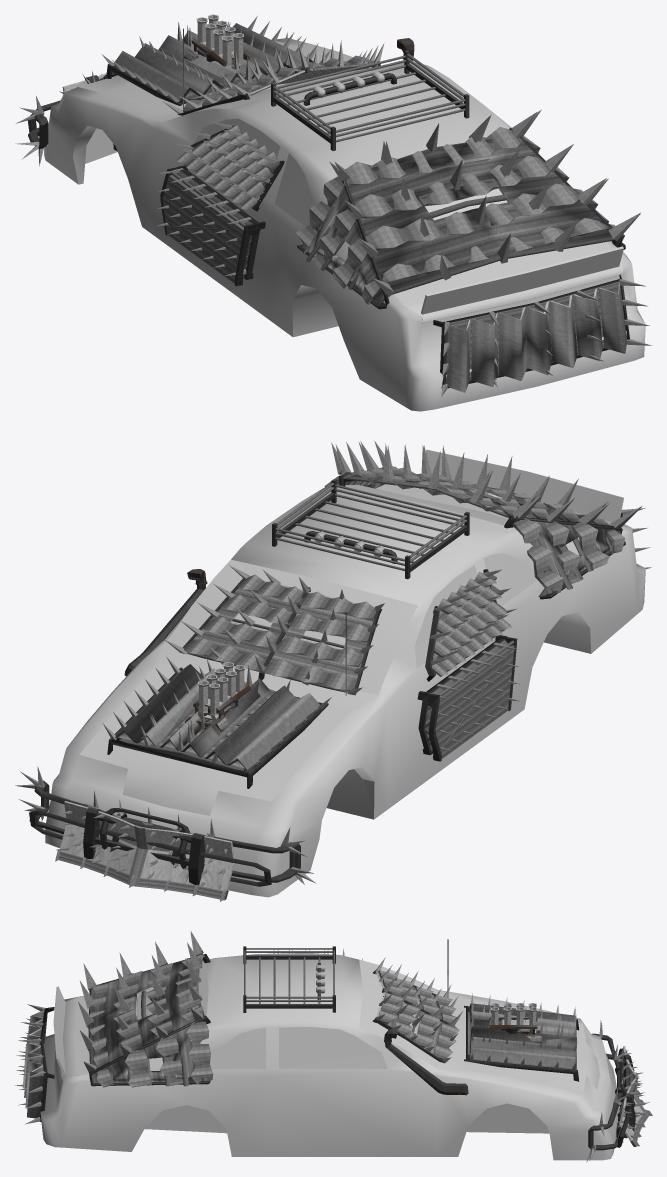
Rendered from RaceCarArmor.fbx.
3 renders of one model, top to bottom at view 1: azimuth 30°, elevation 25°; view 2: azimuth 150°, elevation 25°; view 3: azimuth 270°, elevation 25°, orthographic. The views are drawn at different scales.
Visible parts, largest first — view 1: vehicle_racecar, windowheavyrear, windowreinforcedrear, trunkreinforcedrear, roofrack, doorfrontheavyleft, hoodreinforcedfront, windowfrontreinforcedleft, hoodreinforcedfrontscoop, trunkheavyspikedrear, windowheavyspikedrear, windowlightrear (+14 smaller); view 2: vehicle_racecar, windowreinforcedfront, hoodreinforcedfront, plow, hoodreinforcedfrontscoop, windowreinforcedrear, roofrack, doorfrontheavyleft, windowfrontreinforcedleft, windowheavyfront, windowheavyspikedrear, windowheavyspikedfront (+18 smaller); view 3: vehicle_racecar, windowreinforcedrear, windowheavyrear, hoodreinforcedfront, windowreinforcedfront, hoodreinforcedfrontscoop, roofrack, trunkreinforcedrear, windowlightspikedrear, windowheavyspikedrear, snorkel, airscooppiped (+13 smaller).
Part boxes in pixels (box(x1,y1,x2,y2)): vehicle_racecar: box(44, 38, 645, 411); windowheavyrear: box(296, 127, 625, 309); windowreinforcedrear: box(295, 127, 624, 304); trunkreinforcedrear: box(443, 279, 626, 392); roofrack: box(271, 50, 469, 150); doorfrontheavyleft: box(160, 173, 261, 286); hoodreinforcedfront: box(114, 23, 317, 104); windowfrontreinforcedleft: box(177, 125, 279, 210); hoodreinforcedfrontscoop: box(114, 23, 306, 102); trunkheavyspikedrear: box(433, 279, 652, 396); windowheavyspikedrear: box(329, 109, 640, 291); windowlightrear: box(301, 139, 622, 305); vehicle_racecar: box(45, 449, 645, 897); windowreinforcedfront: box(184, 574, 375, 691); hoodreinforcedfront: box(112, 665, 320, 776); plow: box(55, 801, 234, 901); hoodreinforcedfrontscoop: box(111, 664, 322, 777); windowreinforcedrear: box(324, 466, 624, 596); roofrack: box(272, 479, 469, 579); doorfrontheavyleft: box(427, 644, 516, 761); windowfrontreinforcedleft: box(432, 572, 511, 676); windowheavyfront: box(182, 578, 381, 694); windowheavyspikedrear: box(331, 441, 641, 527); windowheavyspikedfront: box(165, 565, 384, 695); vehicle_racecar: box(40, 953, 620, 1160); windowreinforcedrear: box(89, 954, 213, 1087); windowheavyrear: box(89, 954, 210, 1086); hoodreinforcedfront: box(467, 1003, 575, 1068); windowreinforcedfront: box(378, 970, 459, 1059); hoodreinforcedfrontscoop: box(466, 1003, 576, 1069); roofrack: box(243, 946, 335, 1012); trunkreinforcedrear: box(22, 1009, 47, 1118); windowlightspikedrear: box(78, 933, 203, 1072); windowheavyspikedrear: box(78, 931, 203, 1069); snorkel: box(384, 1028, 468, 1095); airscooppiped: box(489, 1003, 541, 1042).
Bounding box in the file's own units: 360 × 245 × 887.
